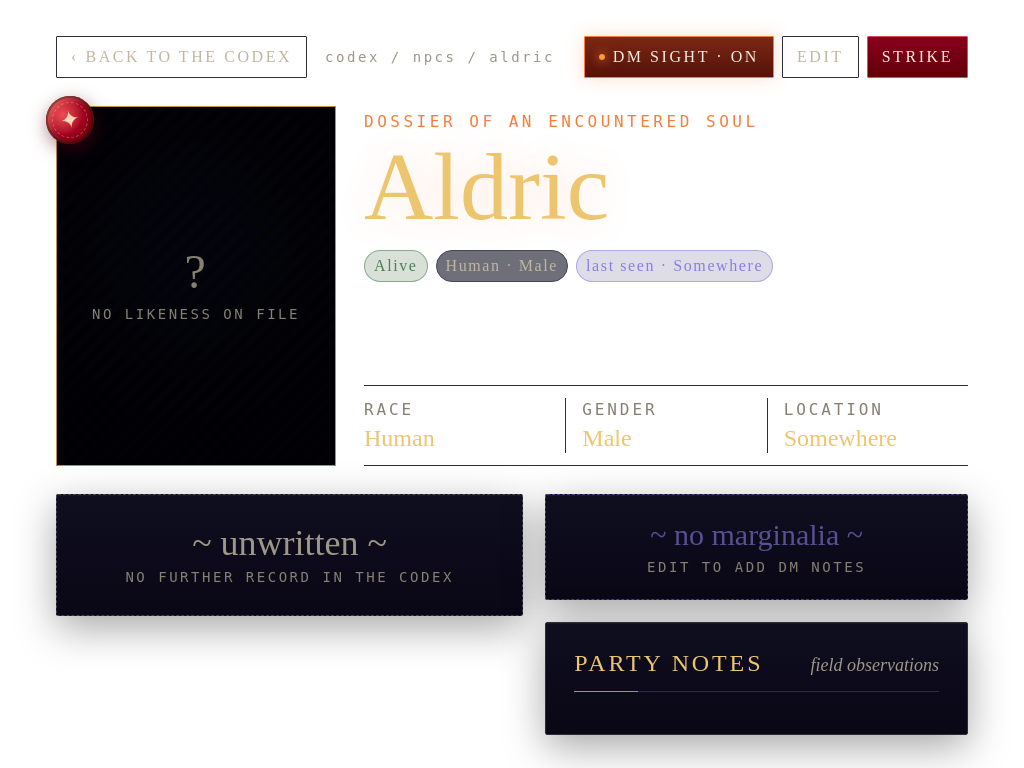
Test: NPC detail page — linked NPC list › linked NPC list is alphabetically sorted
The width and height of the screenshot is (1024, 768).
expect the heading "Aldric" is shown: met, box [364,144,609,230]
What coordinates should you click on to do the following:
click the button "Edit"
I would click on:
 (820, 57)
Its box is [782,36,859,78].
(page scrolled)
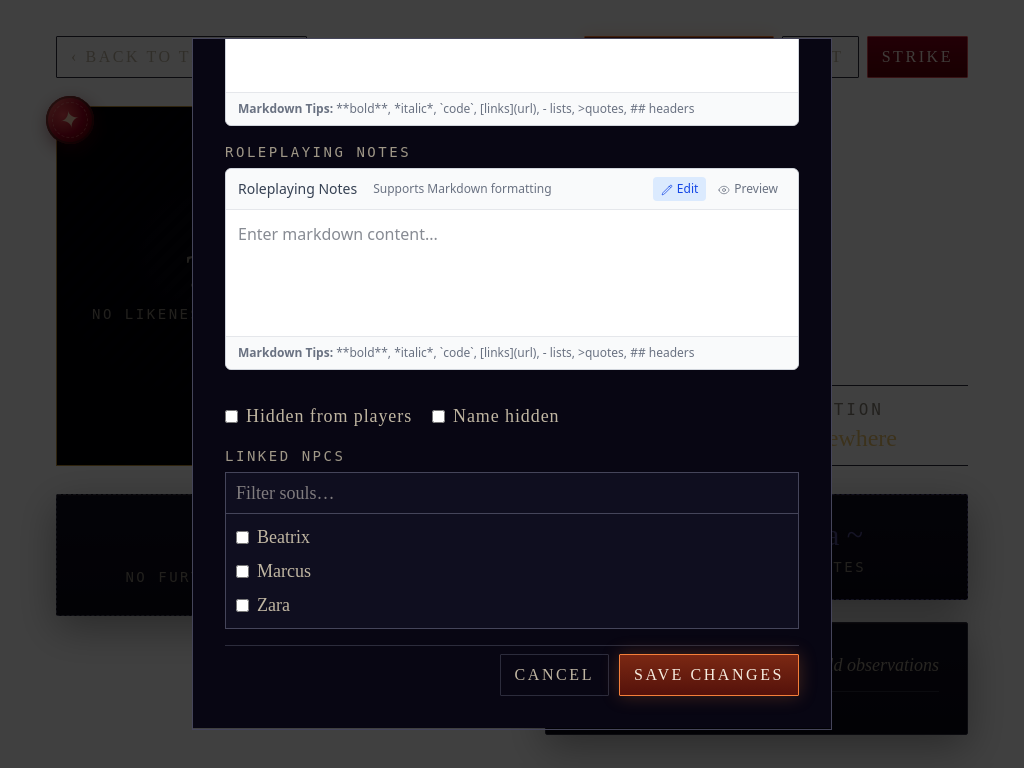
expect the text "Linked NPCs" is shown: met, box [225,448,345,464]
